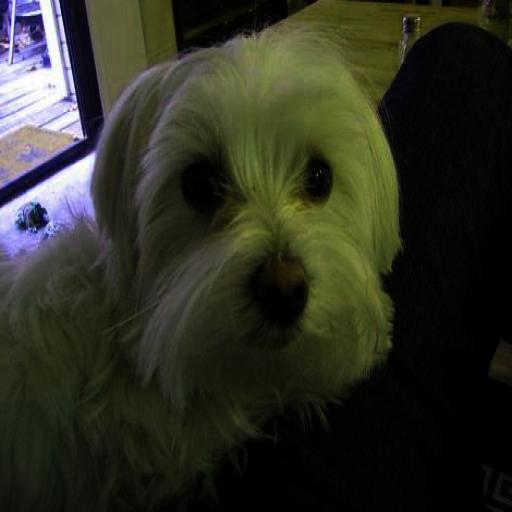dog_face: (106, 35, 368, 396)
